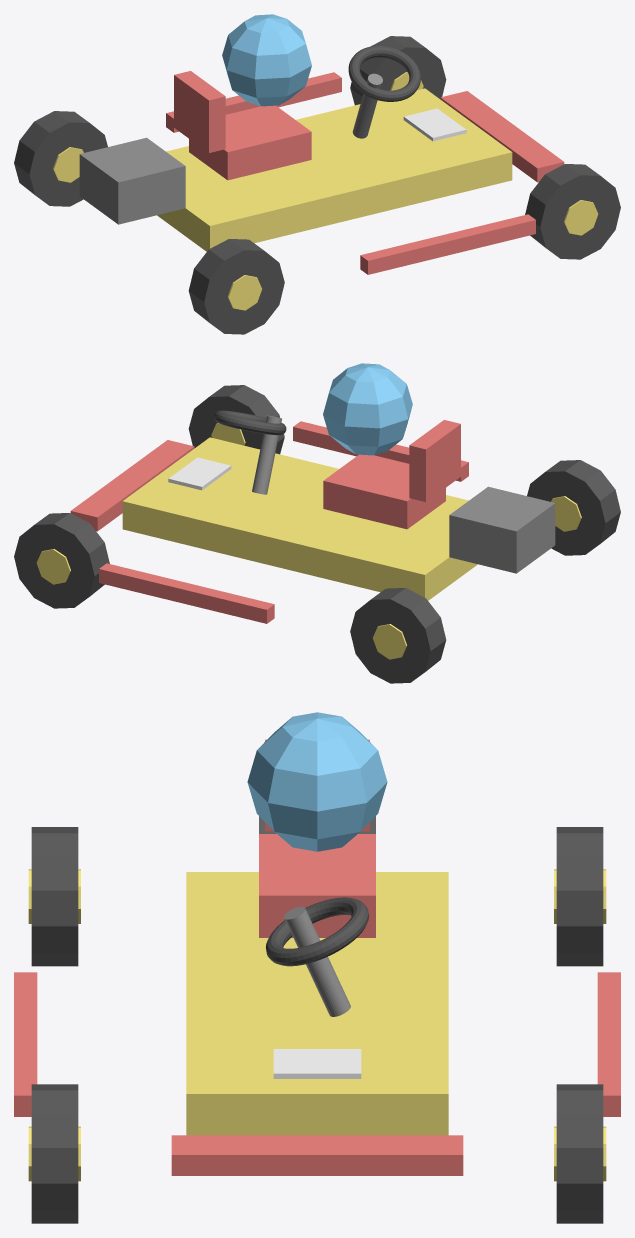
File: car_kart.glb
3 renders of one model, top to bottom at view 1: azimuth 30°, elevation 25°; view 2: azimuth 150°, elevation 25°; view 3: azimuth 270°, elevation 25°, orthographic. The views are drawn at different scales.
Parts seen in each view (by area): view 1: car_kart; view 2: car_kart; view 3: car_kart.
Part boxes in pixels (<box>): car_kart: <box>14,14,620,334</box>; car_kart: <box>14,363,620,683</box>; car_kart: <box>14,712,620,1223</box>.
Size of the model in its own units: 1.27 by 0.64 by 1.04.
